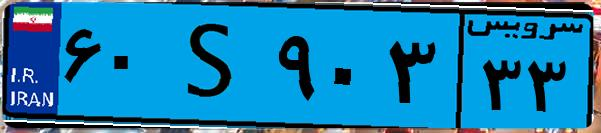0: (330, 28, 385, 110), (110, 28, 158, 98)
3: (385, 28, 445, 110), (475, 38, 525, 113), (525, 38, 570, 115)
6: (57, 26, 110, 100)
9: (270, 28, 330, 110)
S: (158, 12, 270, 120)
